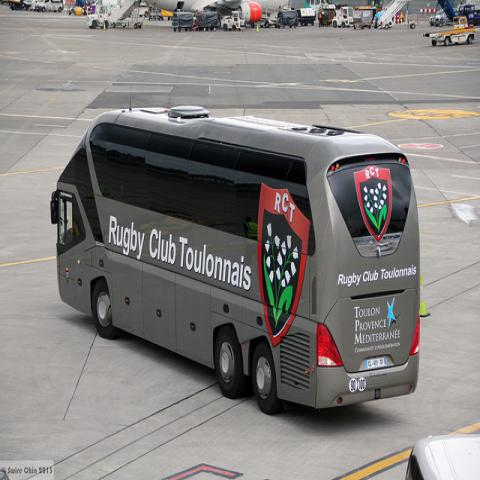bus: (52, 103, 422, 418)
car: (429, 8, 451, 27), (331, 13, 354, 29), (260, 12, 277, 28)
truck: (429, 16, 476, 47), (220, 11, 245, 32)
